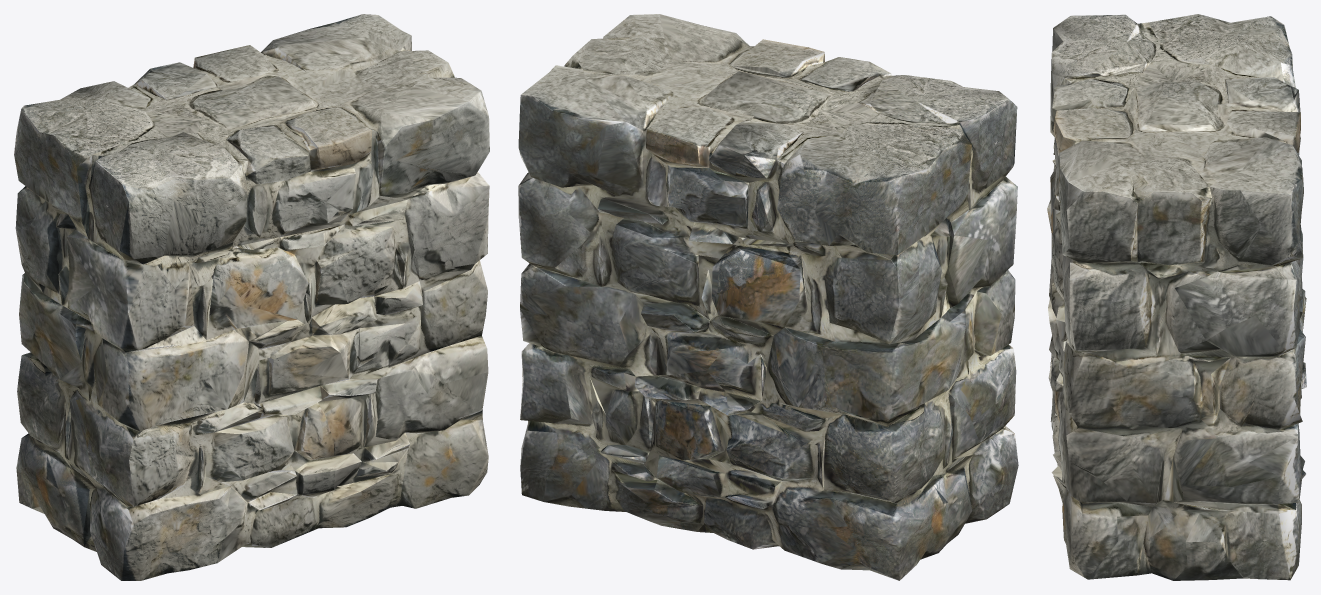
File: StoneWall2.glb
3 renders of one model, left to right at view 1: azimuth 30°, elevation 25°; view 2: azimuth 150°, elevation 25°; view 3: azimuth 270°, elevation 25°, orthographic. The views are drawn at different scales.
Parts seen in each view (by area): view 1: StoneWall2; view 2: StoneWall2; view 3: StoneWall2.
Part boxes in pixels (bbox=[...]): StoneWall2: bbox=[14, 14, 489, 580]; StoneWall2: bbox=[518, 14, 1018, 580]; StoneWall2: bbox=[1047, 14, 1306, 580].
Size of the model in its own units: 0.9889 by 1 by 0.5972.
1 material, 1 textured.
